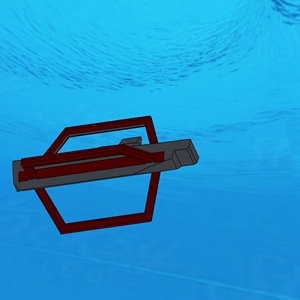submarine: (11, 106, 210, 238)
